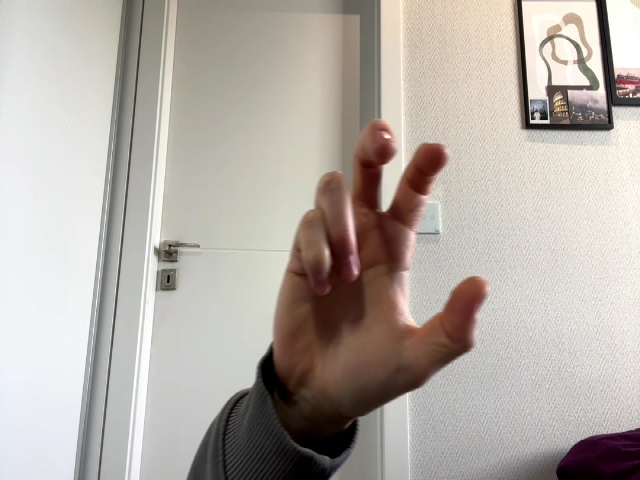CH: (272, 120, 491, 407)
